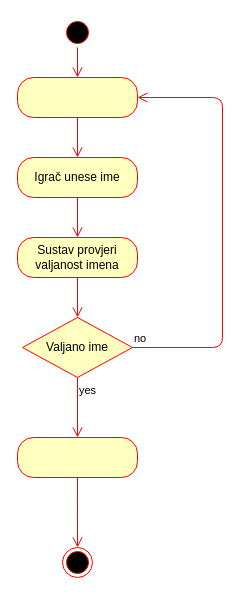
Some shapes in this 250 by 595 pixel diagram are drawn without their labels. Each missing label, with the box of its shape:
Sustav postavi igrača: (16, 436, 138, 478)
Sustav prikaže unos imena: (16, 76, 138, 118)
